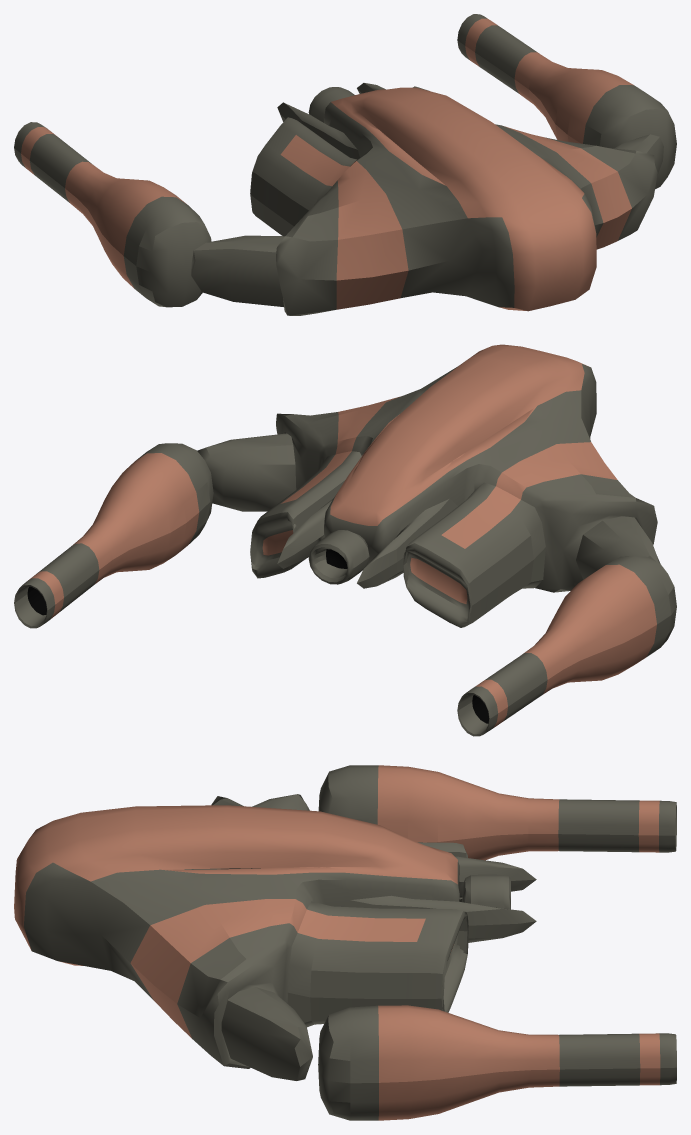
Rendered from Ship_Mesh.fbx.
The picture shows the model from 3 angles, top to bottom: view 1: azimuth 30°, elevation 25°; view 2: azimuth 150°, elevation 25°; view 3: azimuth 270°, elevation 25°; orthographic projection. The views are drawn at different scales.
Visible parts, largest first — view 1: Ship_Mesh; view 2: Ship_Mesh; view 3: Ship_Mesh.
Part boxes in pixels (x1,y1,x2,y2): Ship_Mesh: (14,14,676,315); Ship_Mesh: (14,344,676,736); Ship_Mesh: (14,765,676,1120).
Bounding box in the file's own units: 1067 × 320 × 1065.
